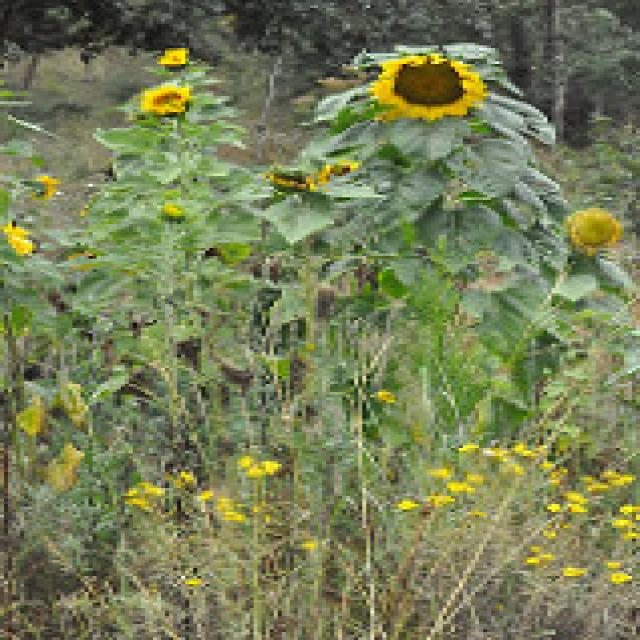sunflower: (370, 58, 492, 118), (553, 206, 625, 257), (126, 87, 205, 118), (154, 43, 198, 73)
